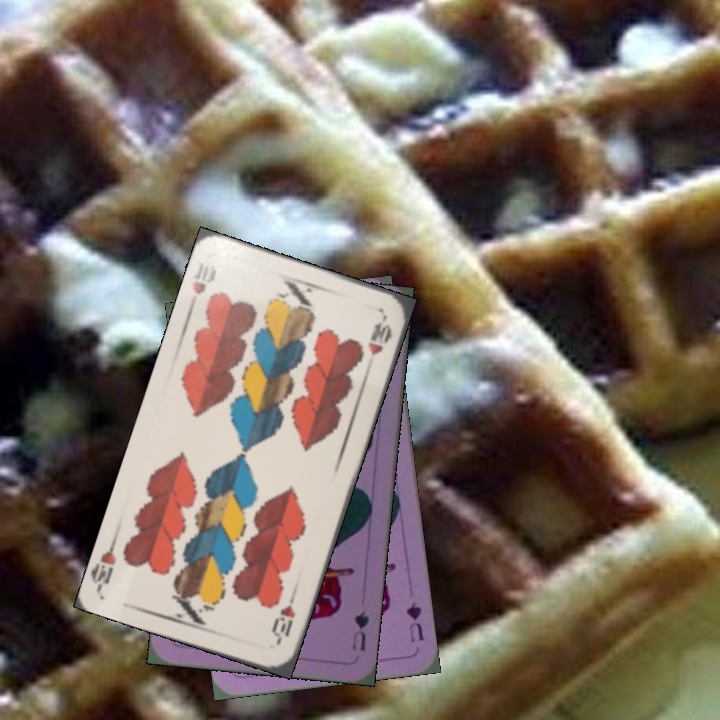GU: (402, 597, 426, 645), (348, 607, 372, 653)
H10: (184, 258, 219, 313), (268, 590, 299, 647)
